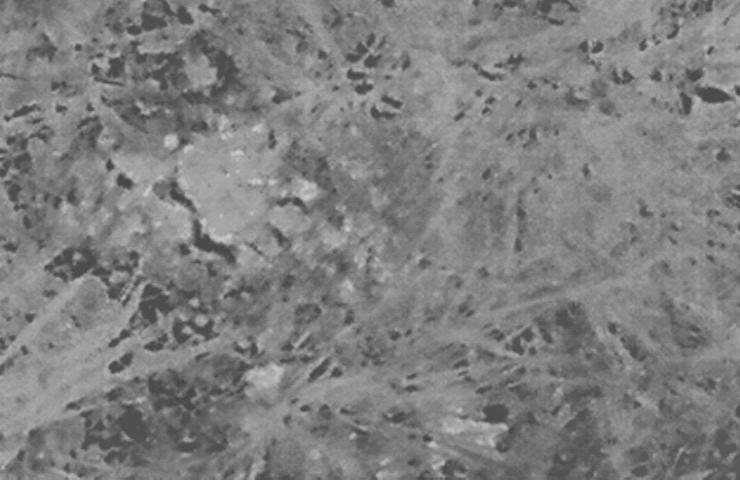landmines: (176, 129, 299, 246)
